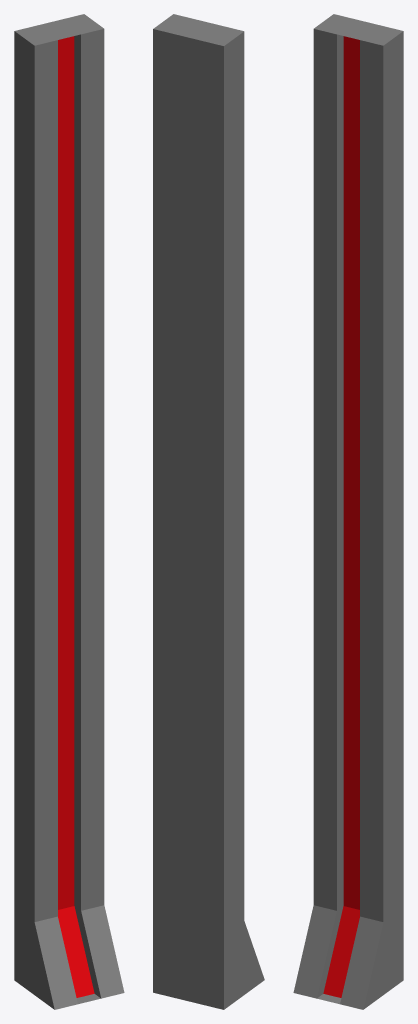
File: Pillar.fbx
3 renders of one model, left to right at view 1: azimuth 30°, elevation 25°; view 2: azimuth 150°, elevation 25°; view 3: azimuth 330°, elevation 25°, orthographic.
Visible parts, largest first — view 1: Cube; view 2: Cube; view 3: Cube.
Part boxes in pixels (left/top/right/bottom): Cube: left=14, top=14, right=124, bottom=1009; Cube: left=153, top=14, right=264, bottom=1009; Cube: left=293, top=14, right=403, bottom=1009.
Bounding box in the file's own units: 200 × 2600 × 200.
